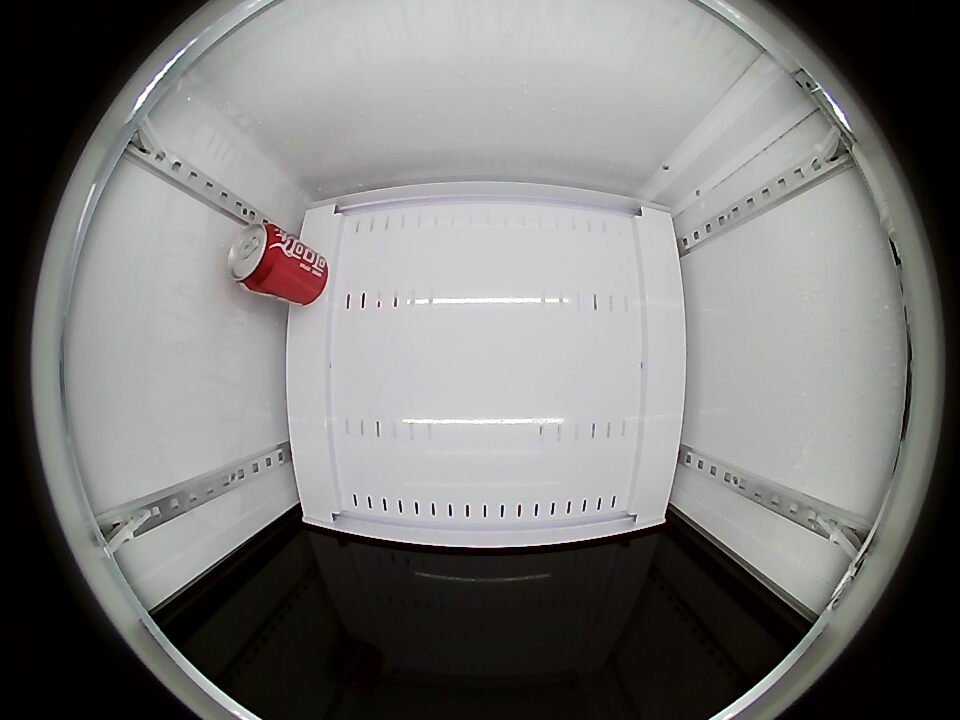kele: (226, 222, 284, 292)
